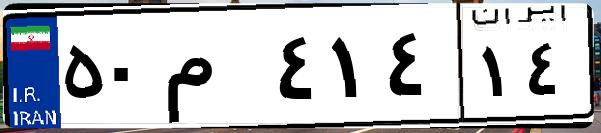0: (110, 28, 158, 98)
1: (330, 28, 385, 110), (475, 38, 525, 113)
4: (270, 28, 330, 110), (385, 28, 445, 110), (525, 38, 570, 115)
5: (57, 26, 110, 100)
م: (158, 20, 270, 120)
